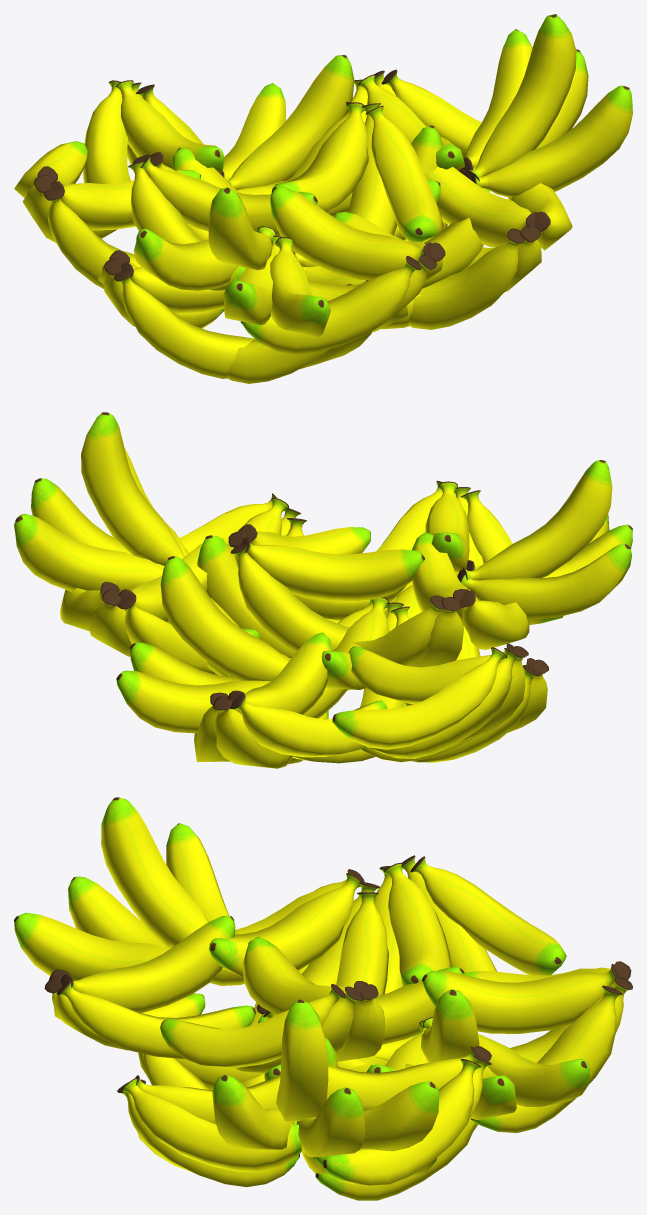
The model's file is Bananas.fbx.
The picture shows the model from 3 angles, top to bottom: view 1: azimuth 30°, elevation 25°; view 2: azimuth 150°, elevation 25°; view 3: azimuth 270°, elevation 25°; orthographic projection. The views are drawn at different scales.
Parts seen in each view (by area): view 1: Bananas; view 2: Bananas; view 3: Bananas.
Boxes of the visible parts, x1,y1,x2,y2 form: Bananas: (14,14,632,383); Bananas: (14,412,632,768); Bananas: (14,797,632,1200).
Bounding box in the file's own units: 65.77 × 63.48 × 31.83.
